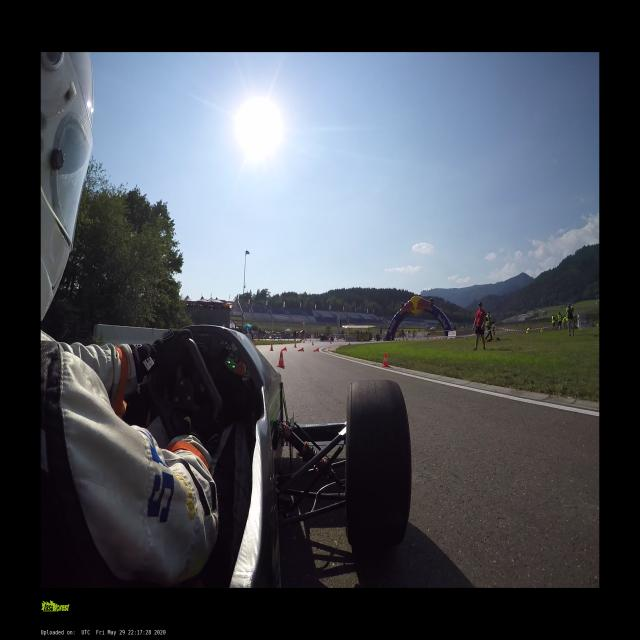orange_cone: (278, 351, 285, 367), (382, 353, 388, 367), (298, 346, 304, 352), (281, 346, 287, 351), (313, 347, 319, 352), (270, 344, 274, 350), (312, 341, 314, 345), (295, 342, 296, 348)
